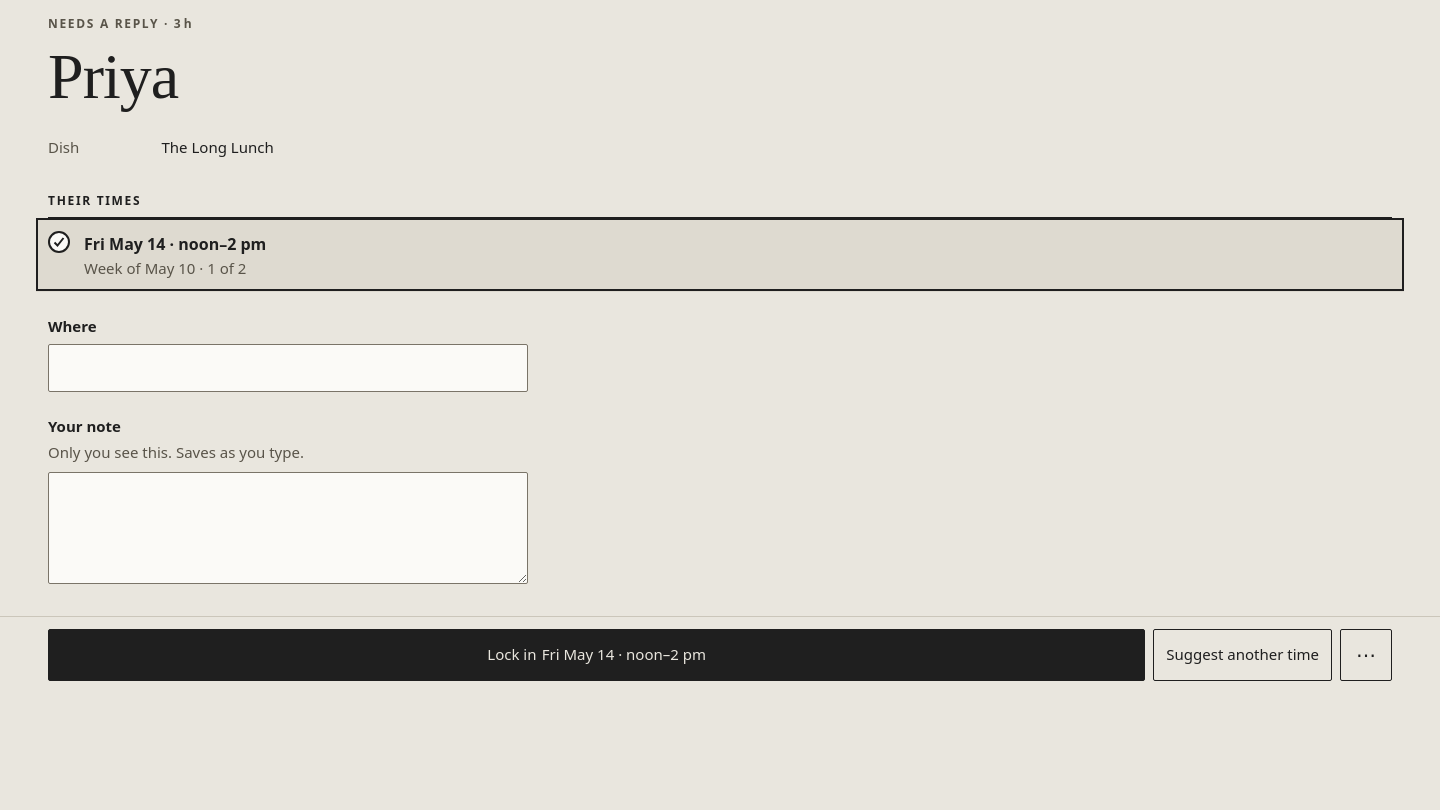
Test case: A3b: the lock POST waits for the undo window (INT-03) › leaving mid-window (unmount: Back, reload, another request) POSTs the lock at once, exactly once
The image size is (1440, 810).
Click the button "Lock in Fri May 14 · noon–2 pm".
click(597, 655)  # box left=48, top=629, right=1145, bottom=681
Wait 5000 ms
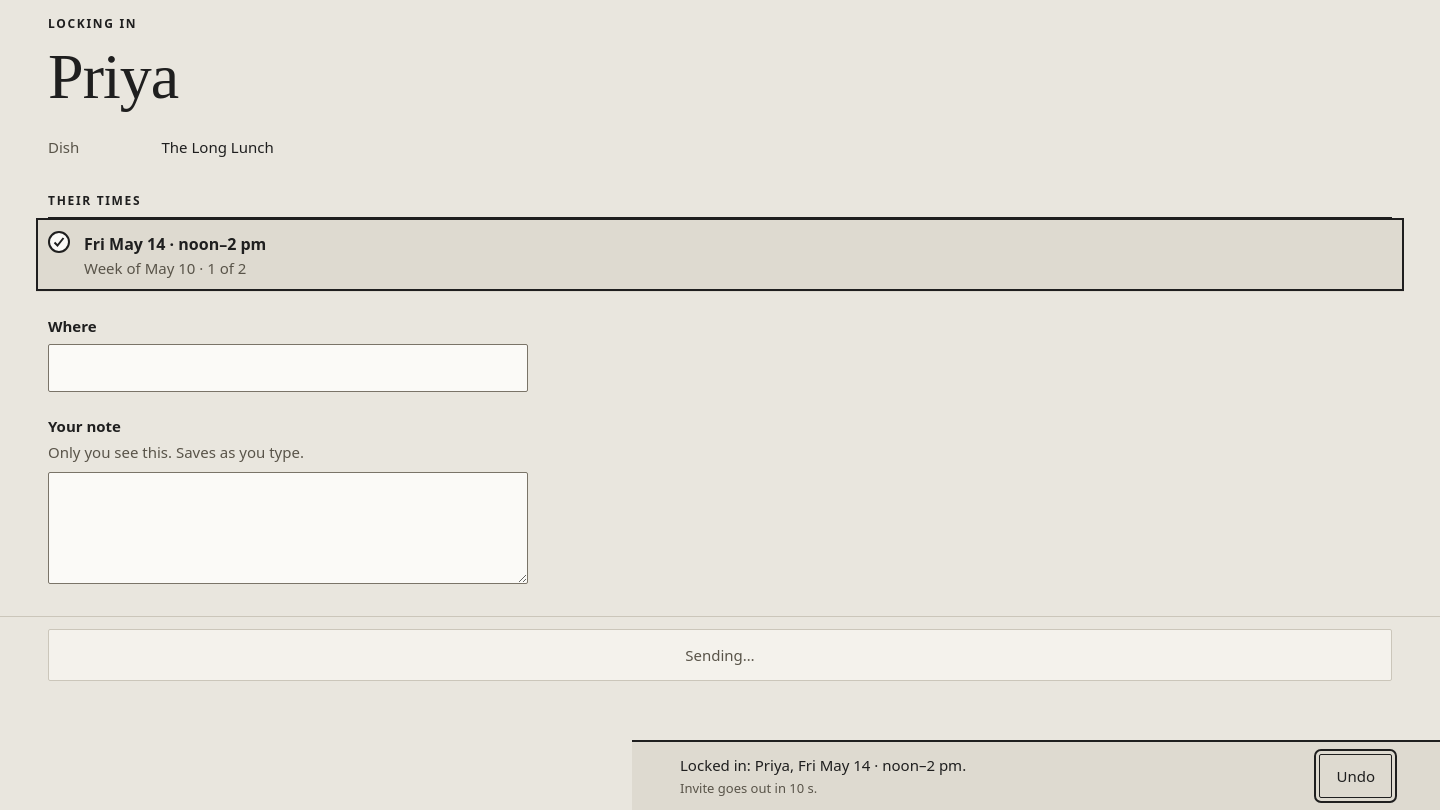
Expected: the button "Undo" is shown, left=1320, top=754, right=1392, bottom=798
